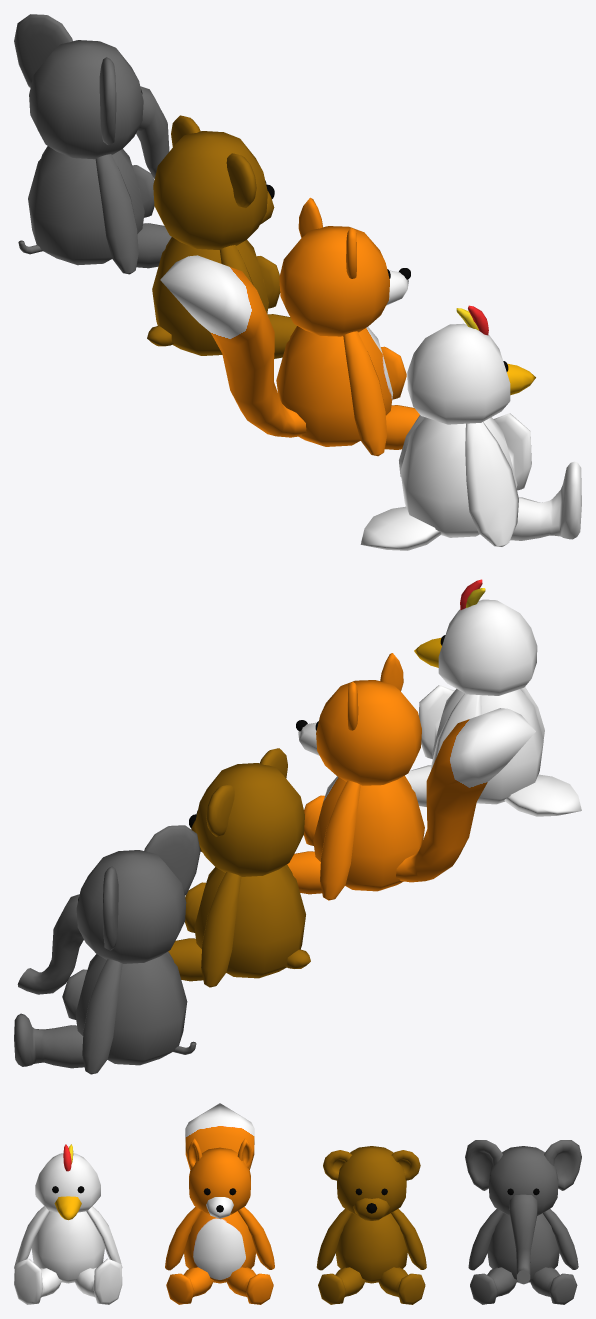
Rendered from Teddy.fbx.
The picture shows the model from 3 angles, top to bottom: view 1: azimuth 30°, elevation 25°; view 2: azimuth 150°, elevation 25°; view 3: azimuth 270°, elevation 25°; orthographic projection. The views are drawn at different scales.
Visible parts, largest first — view 1: Teddys:polySurface61, Teddys:polySurface74, Teddys:polySurface44, Teddys:polySurface45, Teddys:polySurface87, Teddys:polySurface82, Teddys:polySurface62, Teddys:polySurface48, Teddys:polySurface85, Teddys:polySurface75, Teddys:polySurface40, Teddys:polySurface84 (+8 smaller); view 2: Teddys:polySurface61, Teddys:polySurface74, Teddys:polySurface44, Teddys:polySurface45, Teddys:polySurface82, Teddys:polySurface75, Teddys:polySurface62, Teddys:polySurface48, Teddys:polySurface87, Teddys:polySurface46, Teddys:polySurface54, Teddys:polySurface73 (+9 smaller); view 3: Teddys:polySurface61, Teddys:polySurface74, Teddys:polySurface44, Teddys:polySurface87, Teddys:polySurface48, Teddys:polySurface75, Teddys:polySurface82, Teddys:polySurface62, Teddys:polySurface45, Teddys:polySurface84, Teddys:polySurface79, Teddys:polySurface57 (+13 smaller).
Boxes of the visible parts, x1,y1,x2,y2 form: Teddys:polySurface61: (14,14,169,178); Teddys:polySurface74: (153,115,274,249); Teddys:polySurface44: (279,197,410,336); Teddys:polySurface45: (160,255,306,437); Teddys:polySurface87: (360,417,517,550); Teddys:polySurface82: (407,305,535,424); Teddys:polySurface62: (18,147,144,265); Teddys:polySurface48: (276,327,392,446); Teddys:polySurface85: (465,422,518,546); Teddys:polySurface75: (147,238,268,355); Teddys:polySurface40: (343,331,386,456); Teddys:polySurface84: (510,461,581,540); Teddys:polySurface61: (17,825,200,994); Teddys:polySurface74: (189,748,304,876); Teddys:polySurface44: (296,653,421,785); Teddys:polySurface45: (396,708,535,882); Teddys:polySurface82: (414,579,537,695); Teddys:polySurface75: (194,866,310,978); Teddys:polySurface62: (75,953,196,1065); Teddys:polySurface48: (313,776,424,891); Teddys:polySurface87: (432,689,581,816); Teddys:polySurface46: (320,780,360,900); Teddys:polySurface54: (82,959,122,1074); Teddys:polySurface73: (201,872,241,987); Teddys:polySurface61: (465,1140,581,1284); Teddys:polySurface74: (323,1146,420,1220); Teddys:polySurface44: (187,1138,252,1218); Teddys:polySurface87: (31,1211,104,1283); Teddys:polySurface48: (184,1211,255,1283); Teddys:polySurface75: (335,1213,407,1283); Teddys:polySurface82: (35,1144,100,1220); Teddys:polySurface62: (487,1213,559,1282); Teddys:polySurface45: (185,1103,254,1169); Teddys:polySurface84: (14,1258,62,1304); Teddys:polySurface79: (74,1258,122,1304); Teddys:polySurface57: (529,1267,577,1304).
Size of the model in its own units: 13.51 by 10.26 by 37.43.
4 materials, 4 textured.
